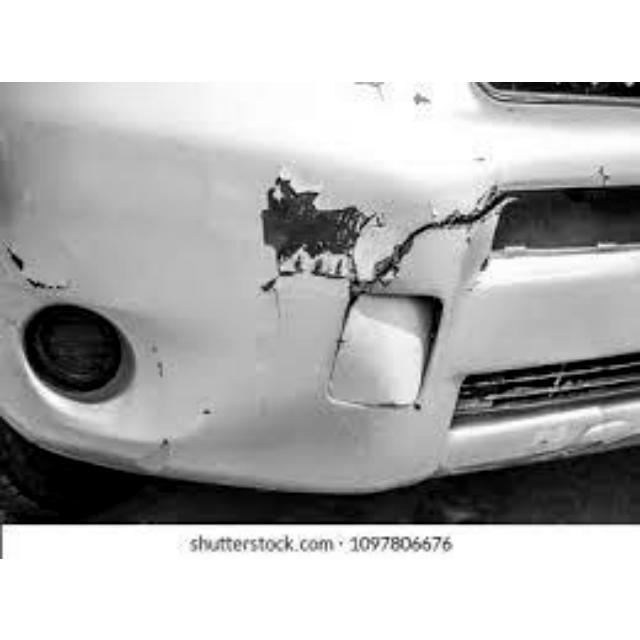front-bumper-dent: (0, 81, 590, 487)
